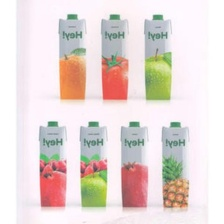carton: (34, 118, 73, 212), (52, 10, 90, 105), (95, 10, 132, 102), (140, 10, 175, 104), (116, 118, 151, 211), (158, 119, 192, 210), (78, 119, 108, 209)
